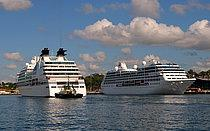Ship: (14, 45, 91, 103), (100, 58, 201, 100)
